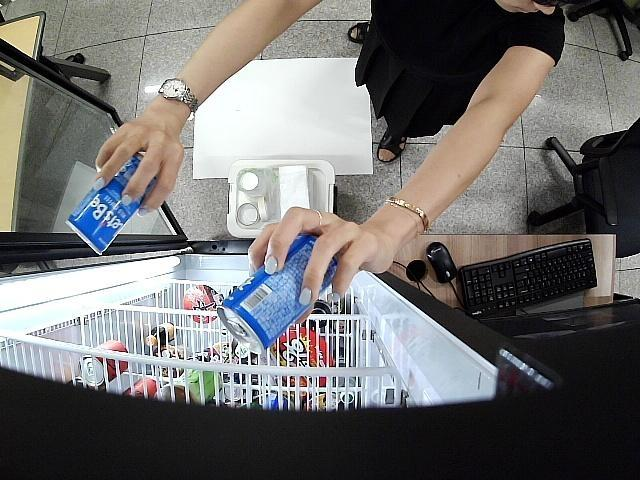15_letsbe: (214, 234, 338, 356), (65, 152, 157, 254)
